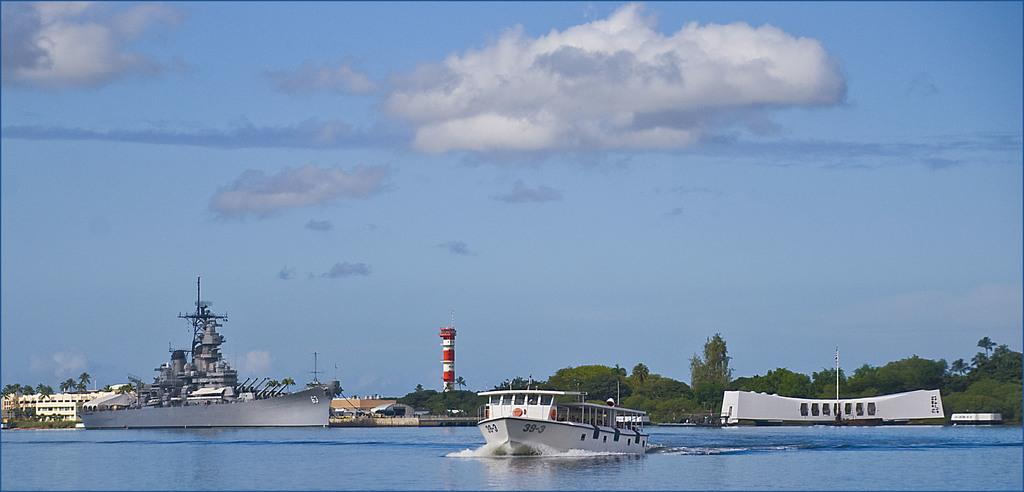Warship: (79, 273, 337, 440)
